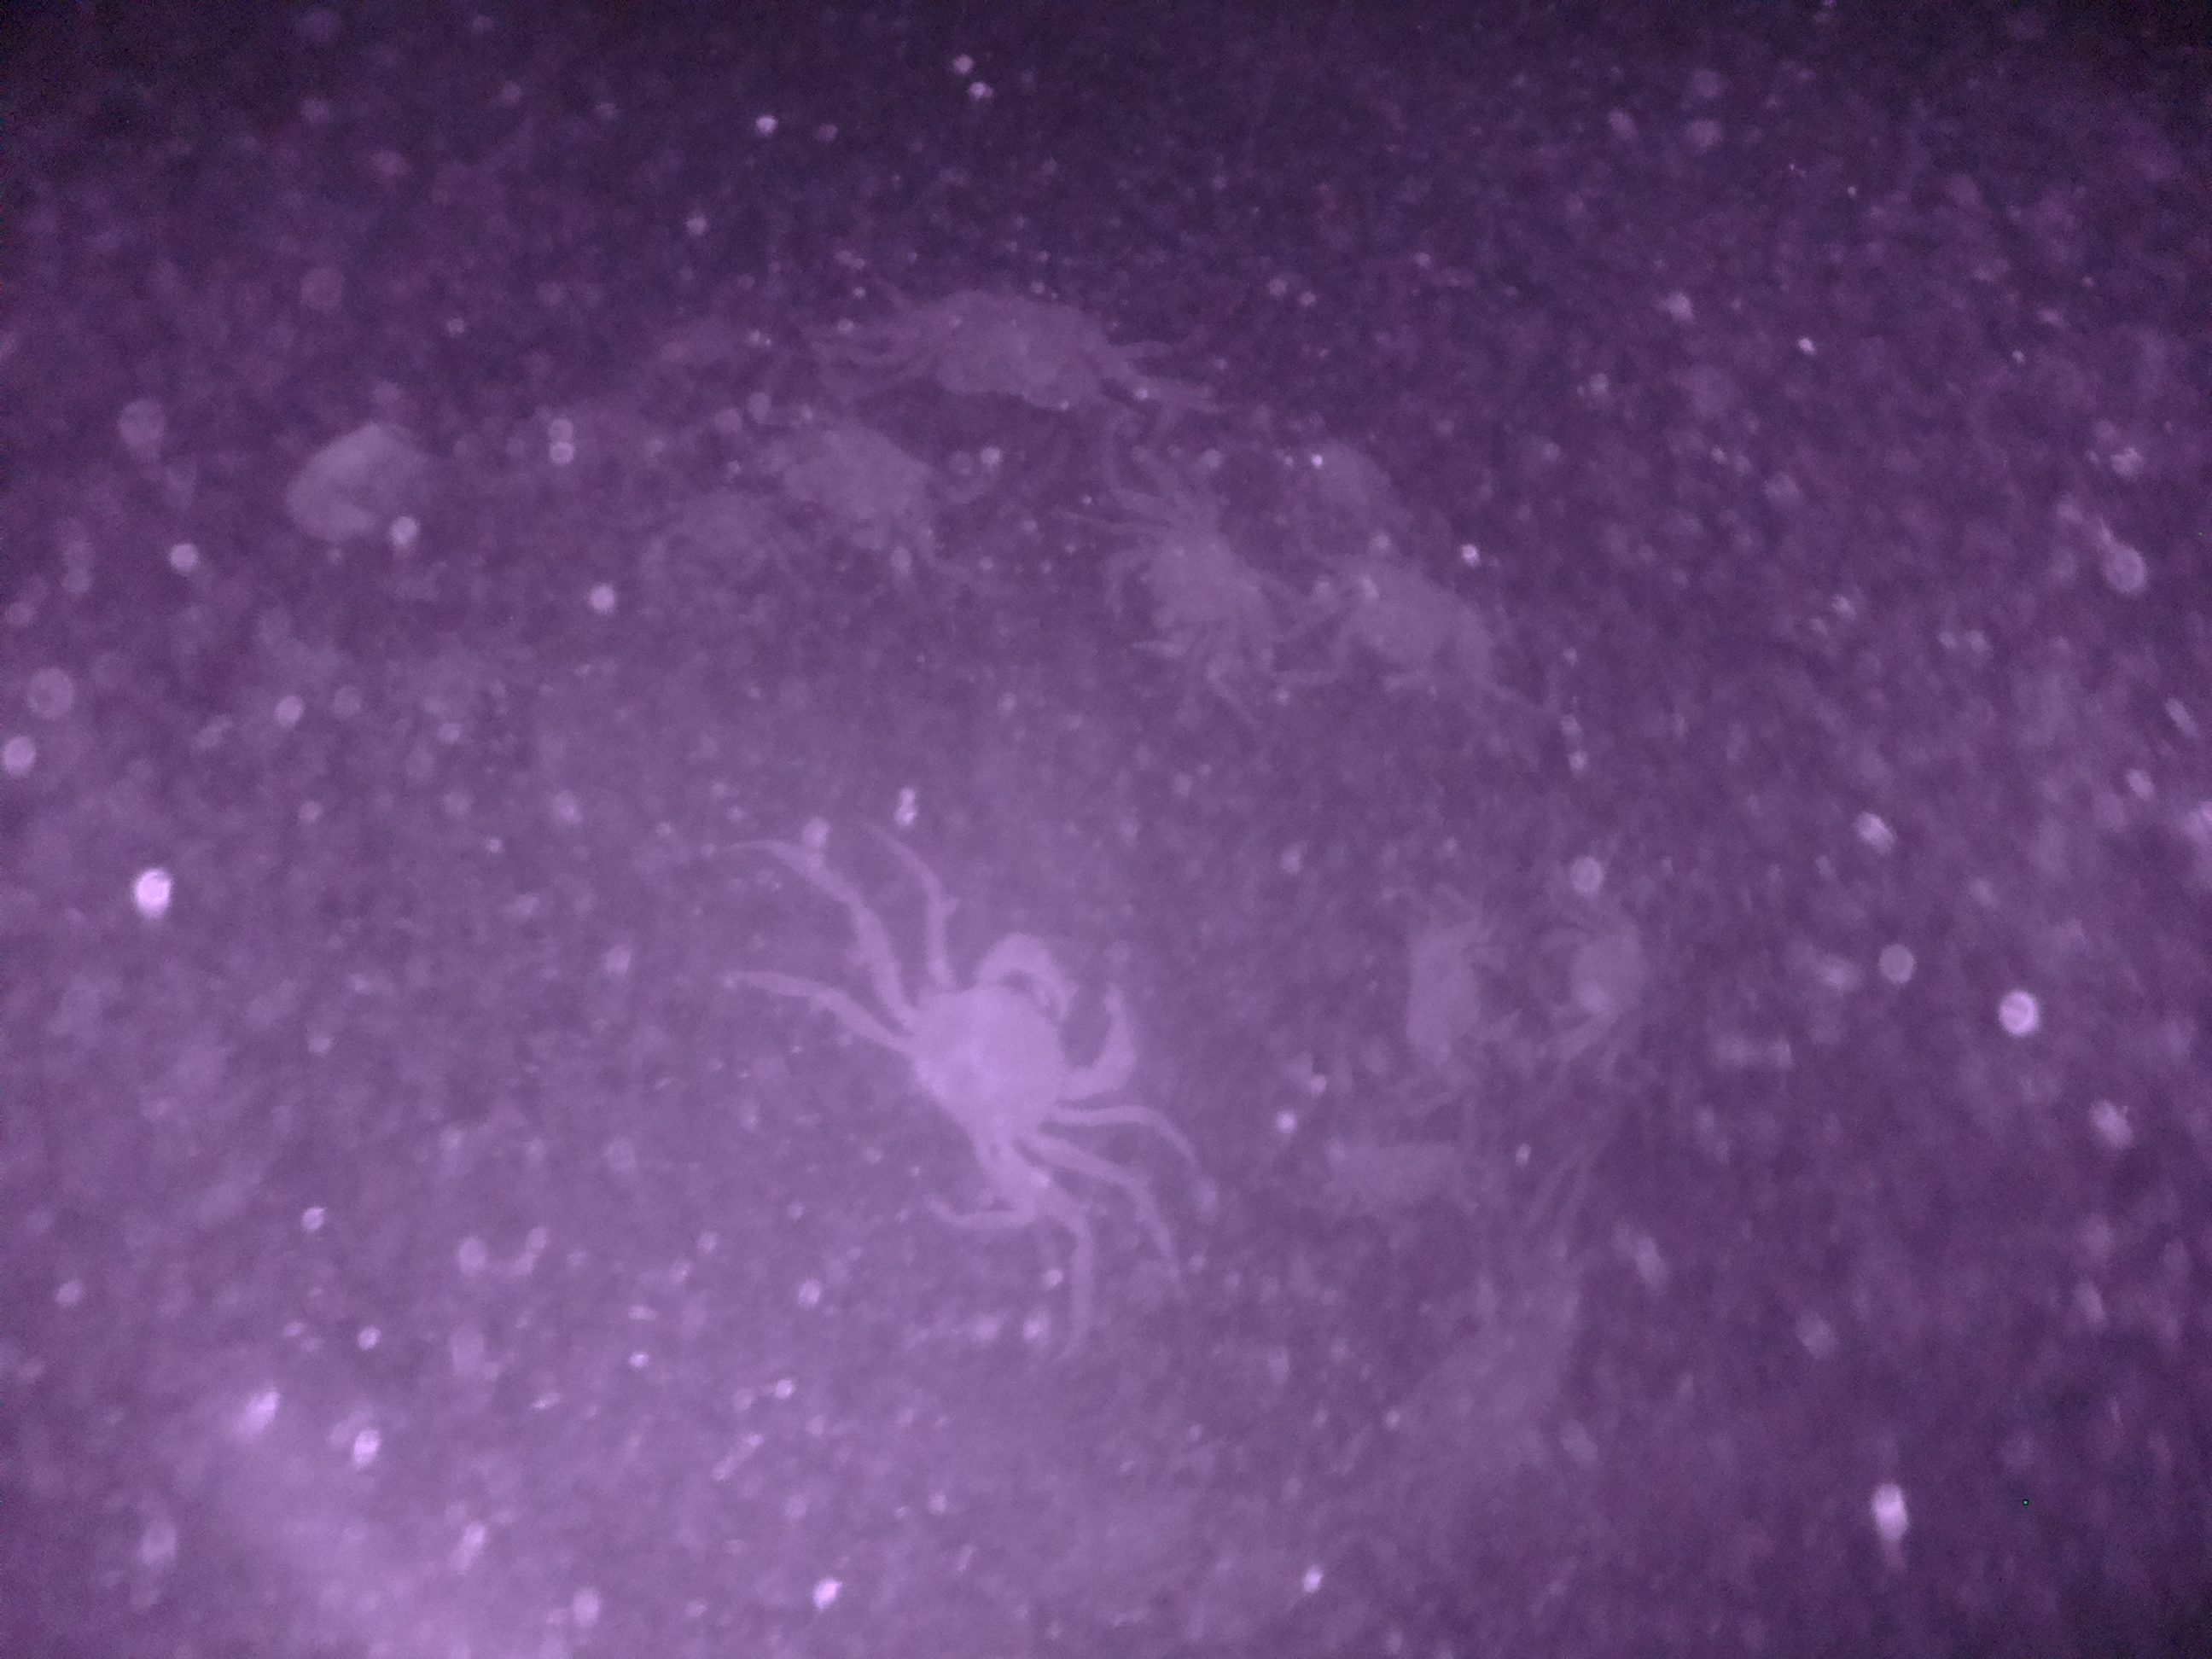Crab: (874, 918, 1143, 1195), (848, 284, 1197, 427), (1301, 547, 1527, 708), (1085, 511, 1268, 674), (1381, 890, 1515, 1101), (1538, 880, 1670, 1068)
